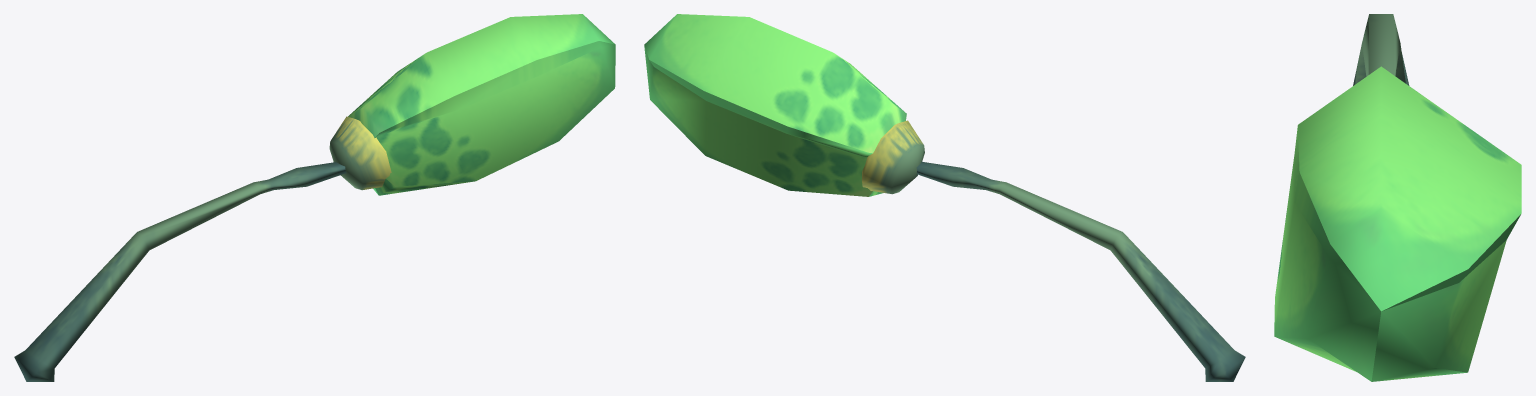
Rendered from bud_flowerGreen.fbx.
3 views of the same model, side by side, from view 1: azimuth 30°, elevation 25°; view 2: azimuth 150°, elevation 25°; view 3: azimuth 270°, elevation 25° (orthographic). The views are drawn at different scales.
Visible parts, largest first — view 1: bud_flowerGreen; view 2: bud_flowerGreen; view 3: bud_flowerGreen.
Boxes of the visible parts, <box> form: bud_flowerGreen: <box>14,14,615,381</box>; bud_flowerGreen: <box>644,14,1245,381</box>; bud_flowerGreen: <box>1274,14,1521,381</box>.
Size of the model in its own units: 0.5512 by 0.2202 by 0.1066.
